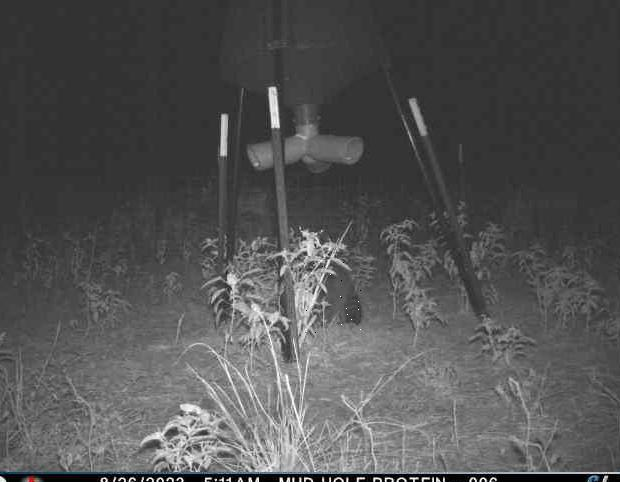Raccoon: (305, 260, 364, 334)
